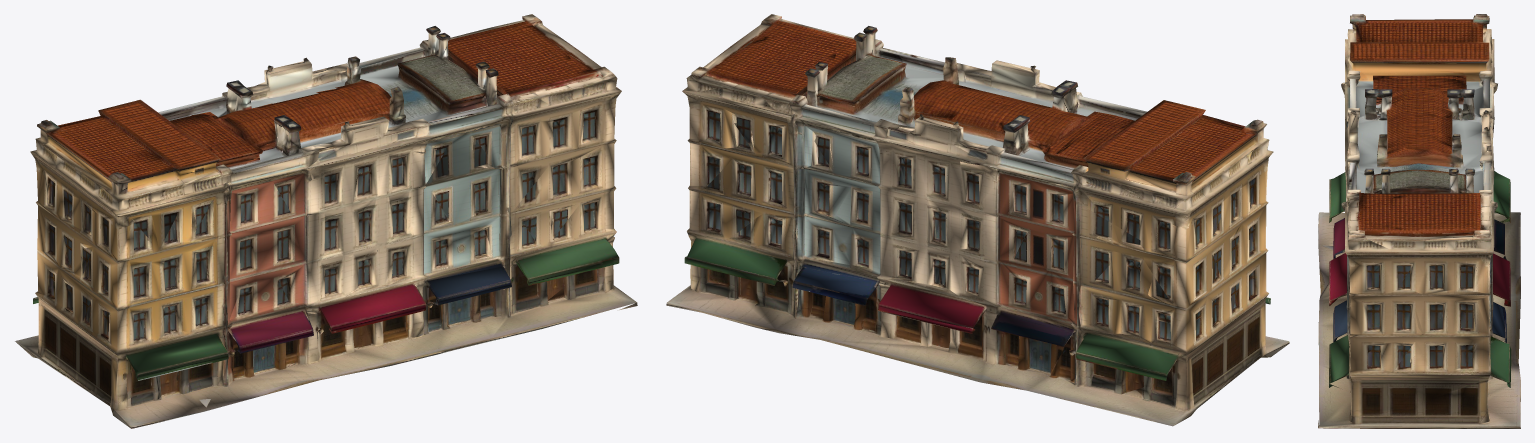
File: city_istanbul_beyoglu_row.glb
The picture shows the model from 3 angles, left to right: view 1: azimuth 30°, elevation 25°; view 2: azimuth 150°, elevation 25°; view 3: azimuth 270°, elevation 25°; orthographic projection. The views are drawn at different scales.
Parts seen in each view (by area): view 1: Mesh1.0; view 2: Mesh1.0; view 3: Mesh1.0.
Boxes of the visible parts, x1,y1,x2,y2 form: Mesh1.0: [15, 14, 637, 428]; Mesh1.0: [666, 14, 1289, 426]; Mesh1.0: [1318, 14, 1520, 428].
Bounding box in the file's own units: 26.29 × 12 × 10.53.
1 material, 1 textured.
